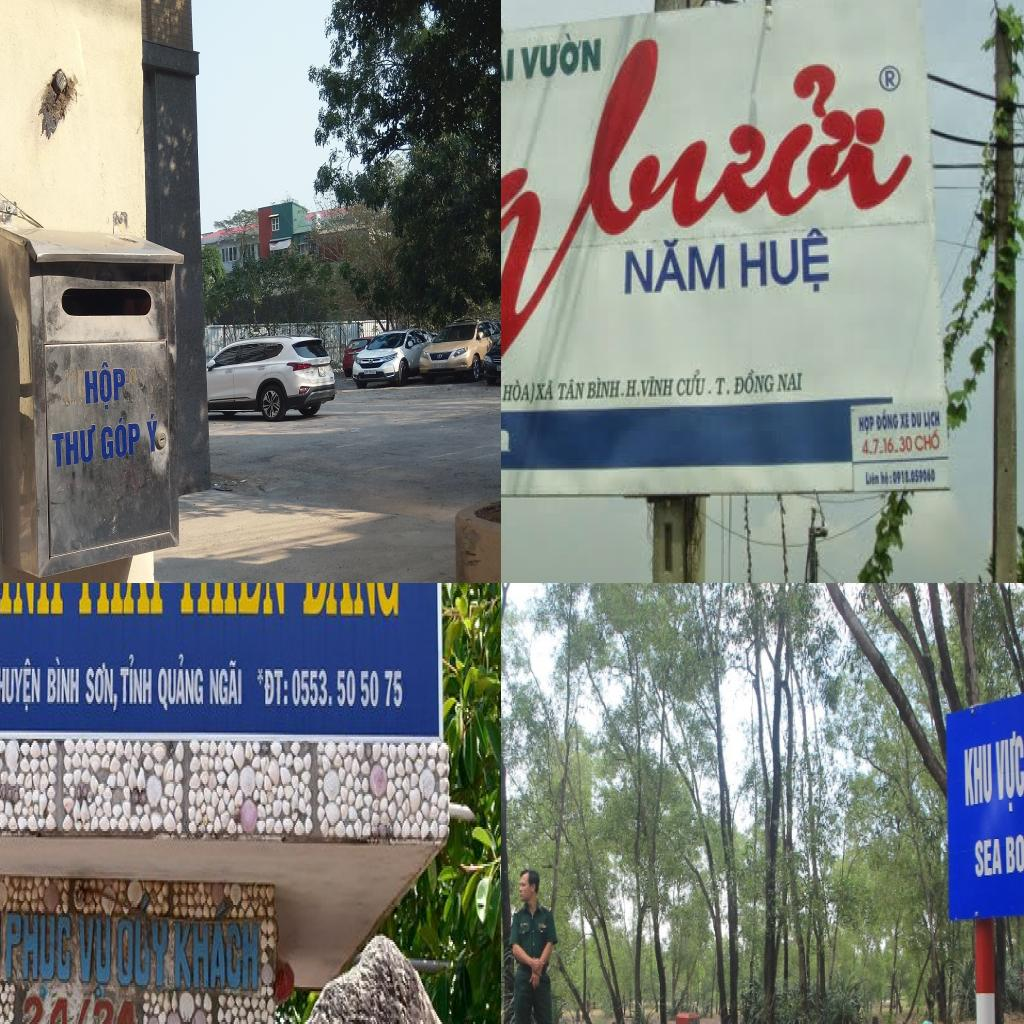text: (549, 30, 931, 243), (175, 909, 263, 1002), (620, 230, 732, 301), (740, 218, 832, 298), (7, 918, 75, 1006), (117, 899, 173, 997), (293, 673, 407, 720), (516, 25, 604, 84), (175, 583, 291, 626), (300, 583, 407, 628), (74, 583, 167, 626), (80, 920, 117, 1008), (0, 583, 68, 628), (994, 727, 1024, 820), (160, 661, 207, 720), (76, 361, 125, 413), (0, 662, 42, 722), (24, 1003, 144, 1024), (960, 740, 994, 810), (48, 422, 96, 469), (98, 410, 142, 461), (122, 661, 156, 716), (88, 667, 122, 720), (212, 663, 246, 716), (48, 663, 83, 714), (258, 671, 294, 716), (971, 835, 1004, 881), (675, 366, 715, 400), (862, 434, 916, 458), (734, 366, 776, 395), (140, 406, 162, 456), (586, 376, 625, 402), (501, 378, 537, 405), (1005, 824, 1024, 875), (640, 375, 676, 400), (501, 38, 517, 92), (557, 376, 587, 404), (913, 429, 943, 455), (776, 370, 804, 395), (875, 407, 901, 433), (534, 378, 556, 404), (880, 64, 899, 91), (714, 374, 734, 398), (922, 409, 943, 431), (626, 376, 644, 400), (857, 414, 876, 436), (865, 468, 881, 488), (910, 409, 924, 429), (880, 468, 894, 488), (898, 412, 912, 431)
